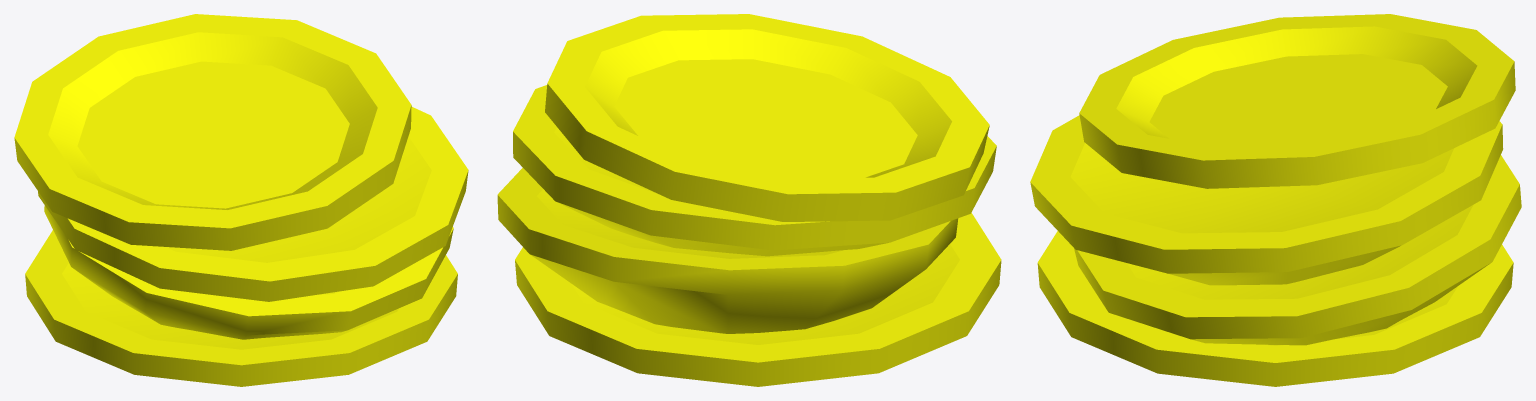
File: kaykit-plate-stack.glb
3 views of the same model, side by side, from view 1: azimuth 30°, elevation 25°; view 2: azimuth 150°, elevation 25°; view 3: azimuth 270°, elevation 25° (orthographic). The views are drawn at different scales.
Visible parts, largest first — view 1: plate_stack; view 2: plate_stack; view 3: plate_stack.
Boxes of the visible parts, bbox=[...] form: plate_stack: bbox=[14, 14, 468, 386]; plate_stack: bbox=[497, 14, 1001, 386]; plate_stack: bbox=[1030, 14, 1521, 386].
Size of the model in its own units: 0.9971 by 0.5639 by 1.
